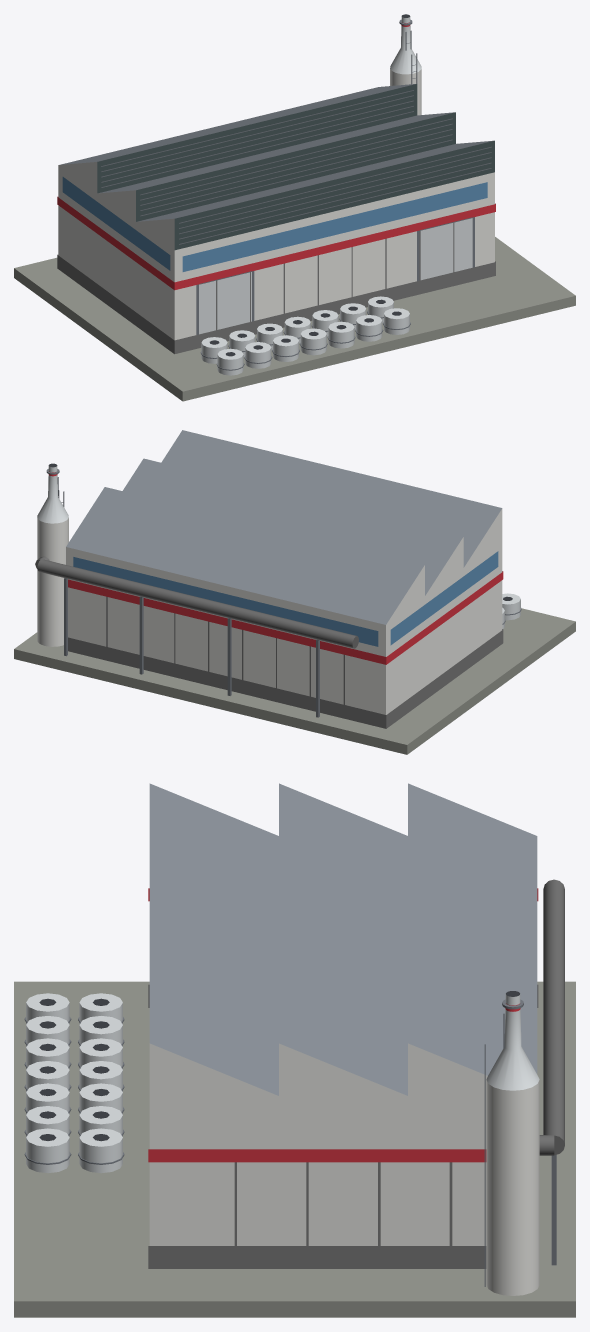
The model's file is mashup-press-top-prebuilt_close.fbx.
3 views of the same model, one above another, from view 1: azimuth 30°, elevation 25°; view 2: azimuth 150°, elevation 25°; view 3: azimuth 270°, elevation 25° (orthographic). The views are drawn at different scales.
Visible parts, largest first — view 1: a1029/0/mashup-press-top-prebuilt_close; view 2: a1029/0/mashup-press-top-prebuilt_close; view 3: a1029/0/mashup-press-top-prebuilt_close.
Boxes of the visible parts, x1=… form: a1029/0/mashup-press-top-prebuilt_close: x1=14, y1=14, x2=575, y2=401; a1029/0/mashup-press-top-prebuilt_close: x1=14, y1=430, x2=575, y2=754; a1029/0/mashup-press-top-prebuilt_close: x1=14, y1=783, x2=575, y2=1317.
Bounding box in the file's own units: 31.2 × 14 × 23.2.
